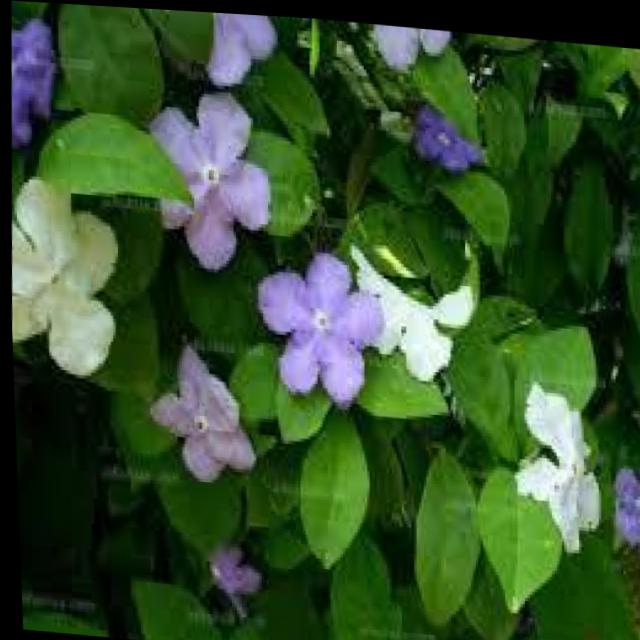Flower: (133, 84, 281, 283), (11, 187, 129, 384), (248, 259, 380, 405), (505, 370, 605, 555), (344, 241, 473, 370), (147, 338, 264, 479), (7, 8, 67, 150), (400, 102, 490, 181)
